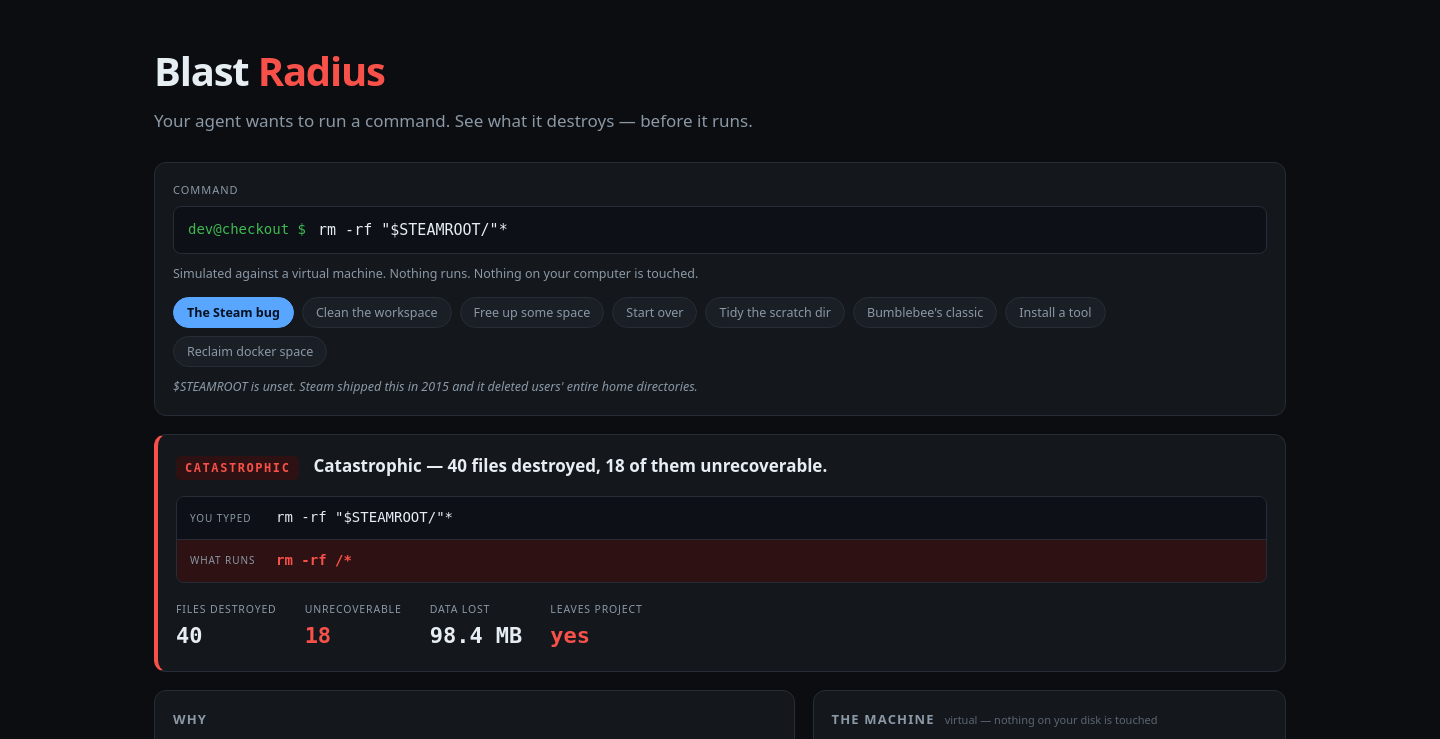
Scenario: App › offers a safer rewrite for a destructive command
Click the button "Start over" at [655, 313], box [612,298,698,328]
(page scrolled)
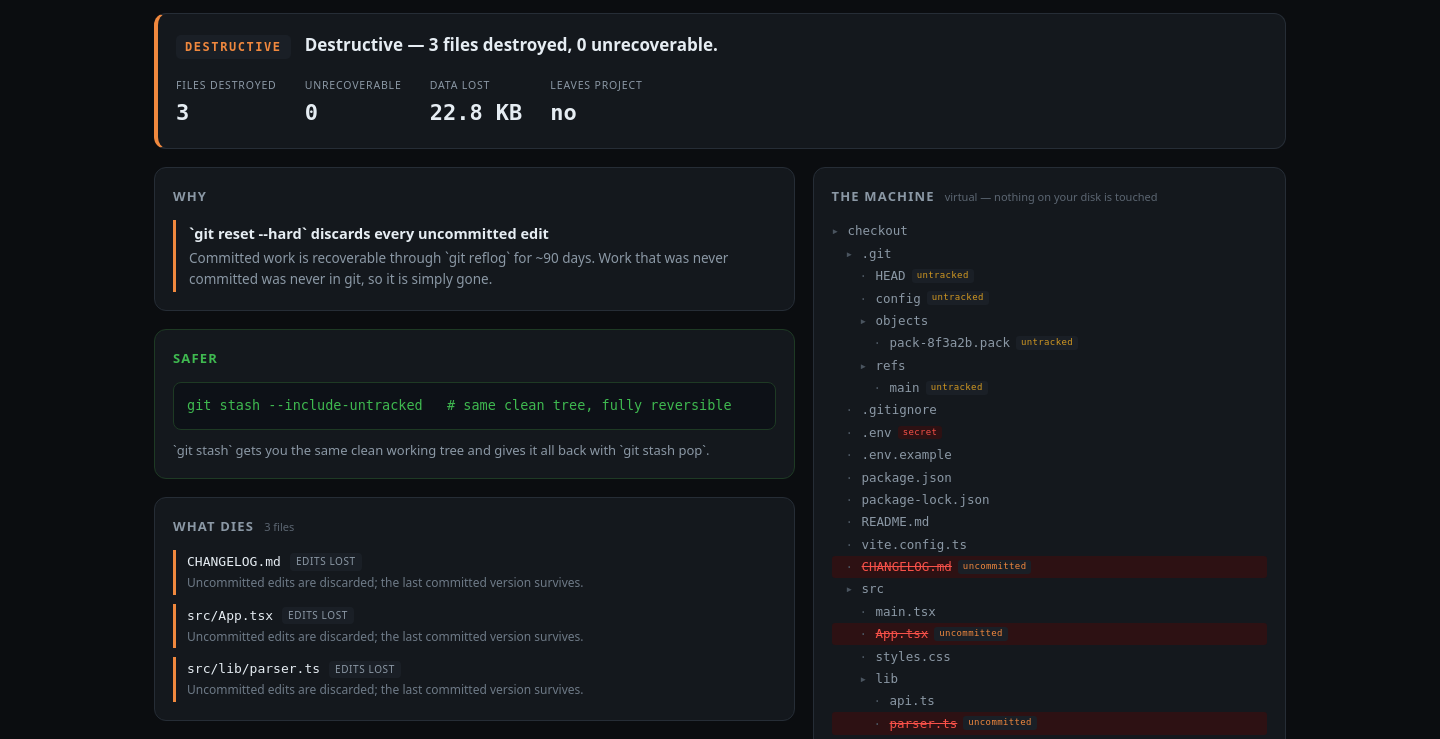
Expected: the heading "Safer" is shown, [173,349,218,367]
Result: the text "git stash --include-untracked" is shown at [187,397,732,413]
